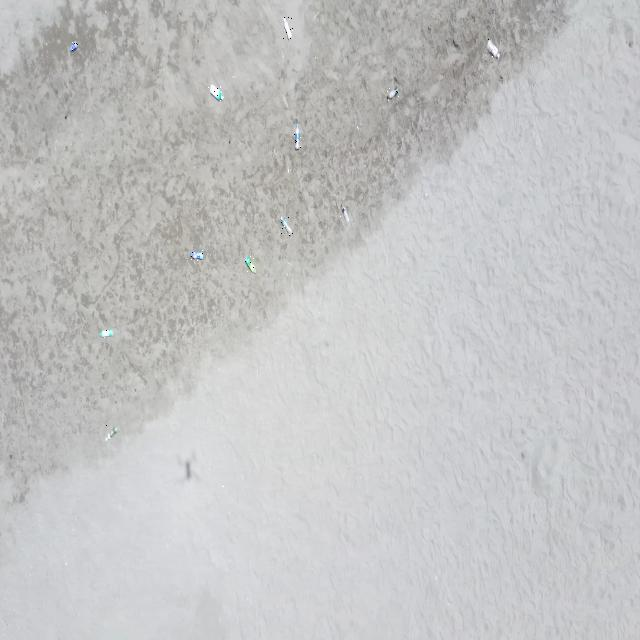Garbage: (208, 84, 222, 100), (487, 39, 499, 57), (280, 216, 291, 235), (293, 120, 300, 148), (104, 426, 118, 440), (244, 256, 255, 272), (284, 16, 291, 39), (188, 251, 203, 259), (340, 206, 347, 223), (387, 88, 396, 99), (68, 40, 77, 51), (100, 328, 112, 336), (453, 37, 459, 48)
